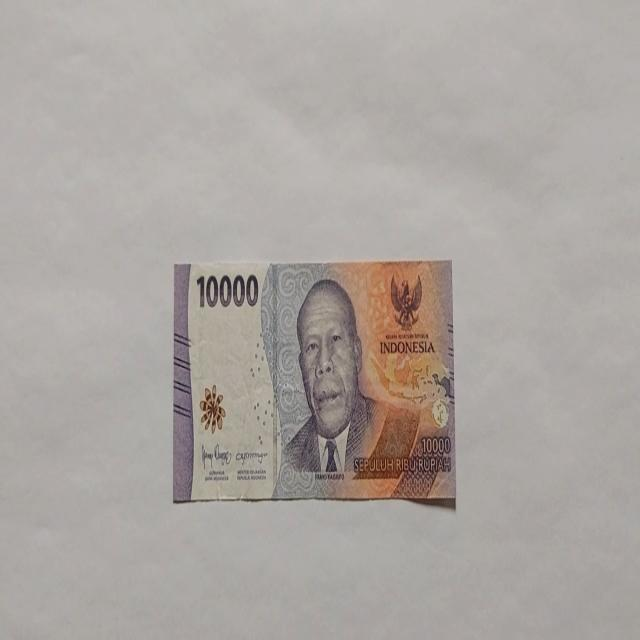sepuluh ribu rupiah: (172, 258, 456, 505)
